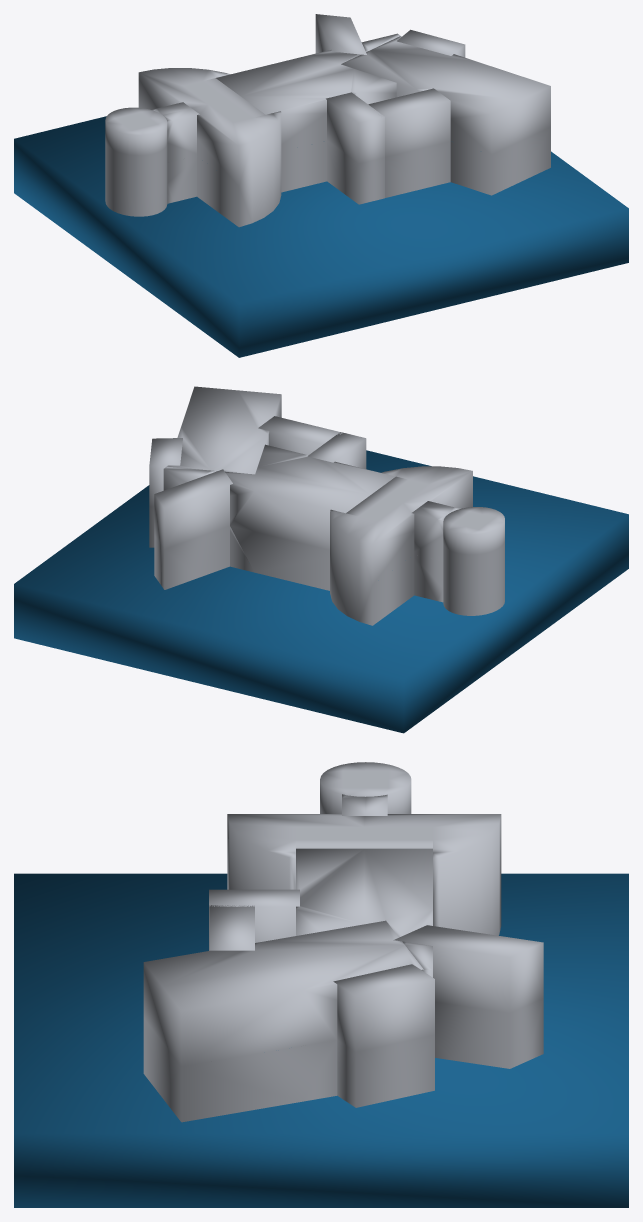
Rendered from w_beamer.glb.
3 views of the same model, one above another, from view 1: azimuth 30°, elevation 25°; view 2: azimuth 150°, elevation 25°; view 3: azimuth 270°, elevation 25° (orthographic). The views are drawn at different scales.
Visible parts, largest first — view 1: basetta, figura; view 2: basetta, figura; view 3: basetta, figura.
Part boxes in pixels (left/top/right/bottom): basetta: left=14, top=116, right=628, bottom=357; figura: left=105, top=14, right=550, bottom=227; basetta: left=14, top=450, right=628, bottom=733; figura: left=149, top=386, right=504, bottom=625; basetta: left=14, top=873, right=628, bottom=1207; figura: left=143, top=762, right=543, bottom=1122.
Bounding box in the file's own units: 0.015 × 0.005 × 0.015.
